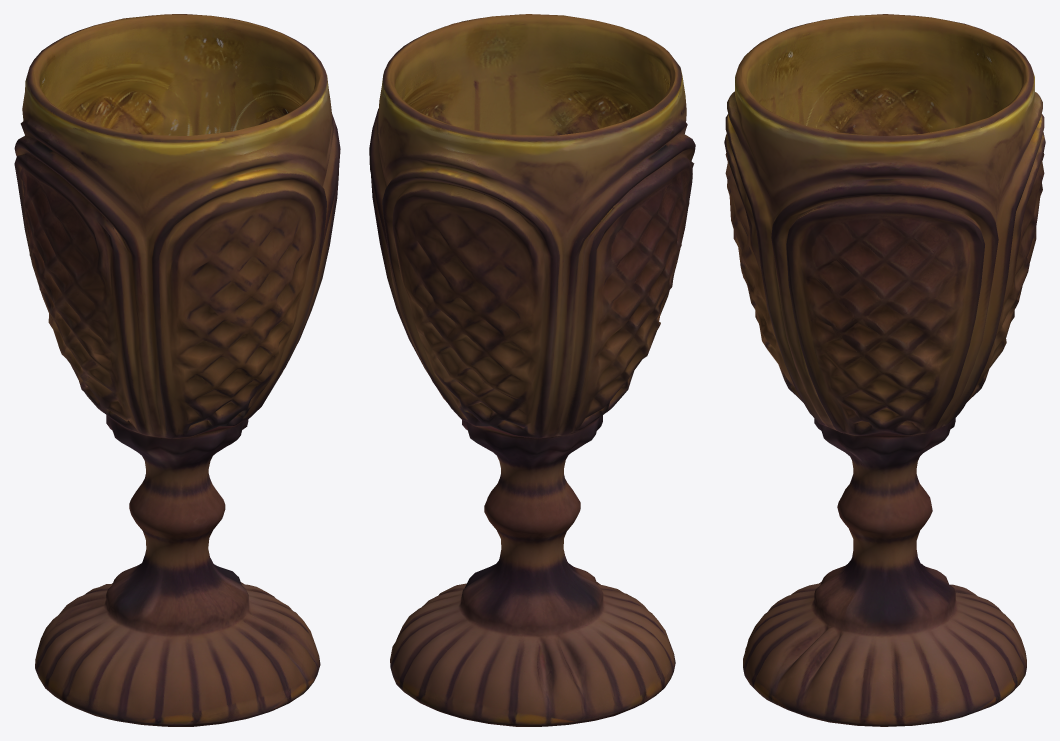
File: Glass_Goblet_Carousel_9.8InchesTallableTop_0222192749_texture.glb
The picture shows the model from 3 angles, left to right: view 1: azimuth 30°, elevation 25°; view 2: azimuth 150°, elevation 25°; view 3: azimuth 270°, elevation 25°; orthographic projection.
Parts seen in each view (by area): view 1: Mesh_0; view 2: Mesh_0; view 3: Mesh_0.
Part boxes in pixels (bbox=[...]): Mesh_0: bbox=[14, 14, 340, 726]; Mesh_0: bbox=[369, 14, 695, 726]; Mesh_0: bbox=[724, 14, 1045, 726].
Bounding box in the file's own units: 0.1222 × 0.2489 × 0.1222.
1 material, 1 textured.
